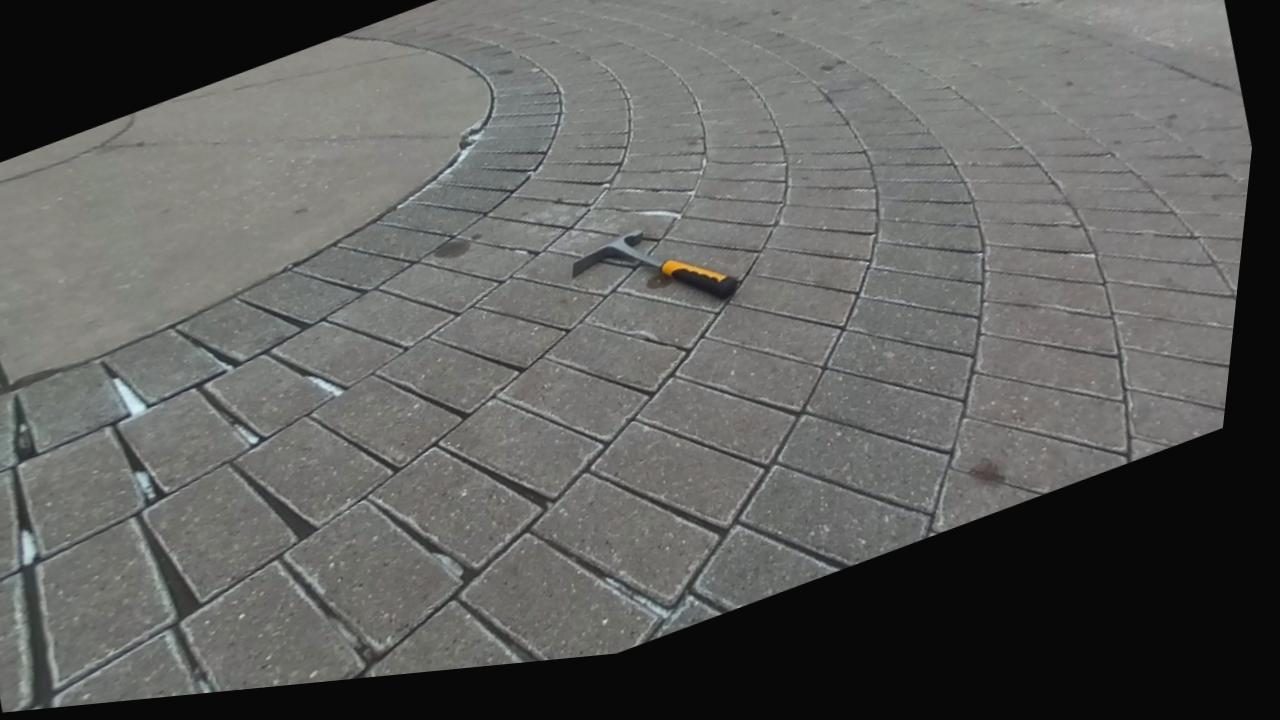pick: (572, 229, 738, 299)
